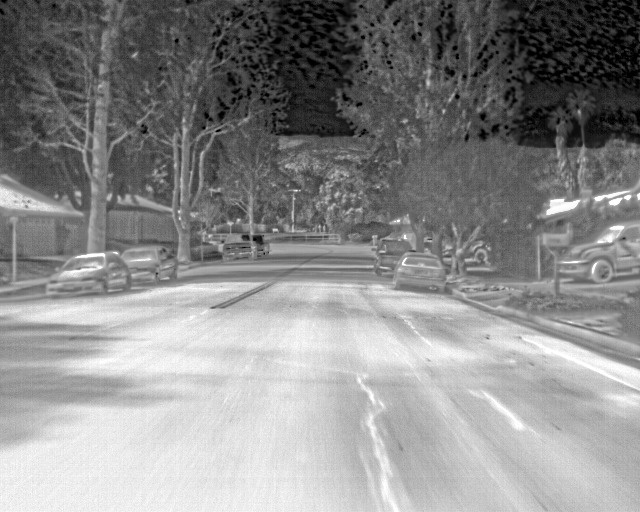vehicle: (557, 220, 640, 283), (44, 251, 133, 302), (122, 243, 177, 284), (397, 252, 446, 291), (374, 236, 414, 274)
